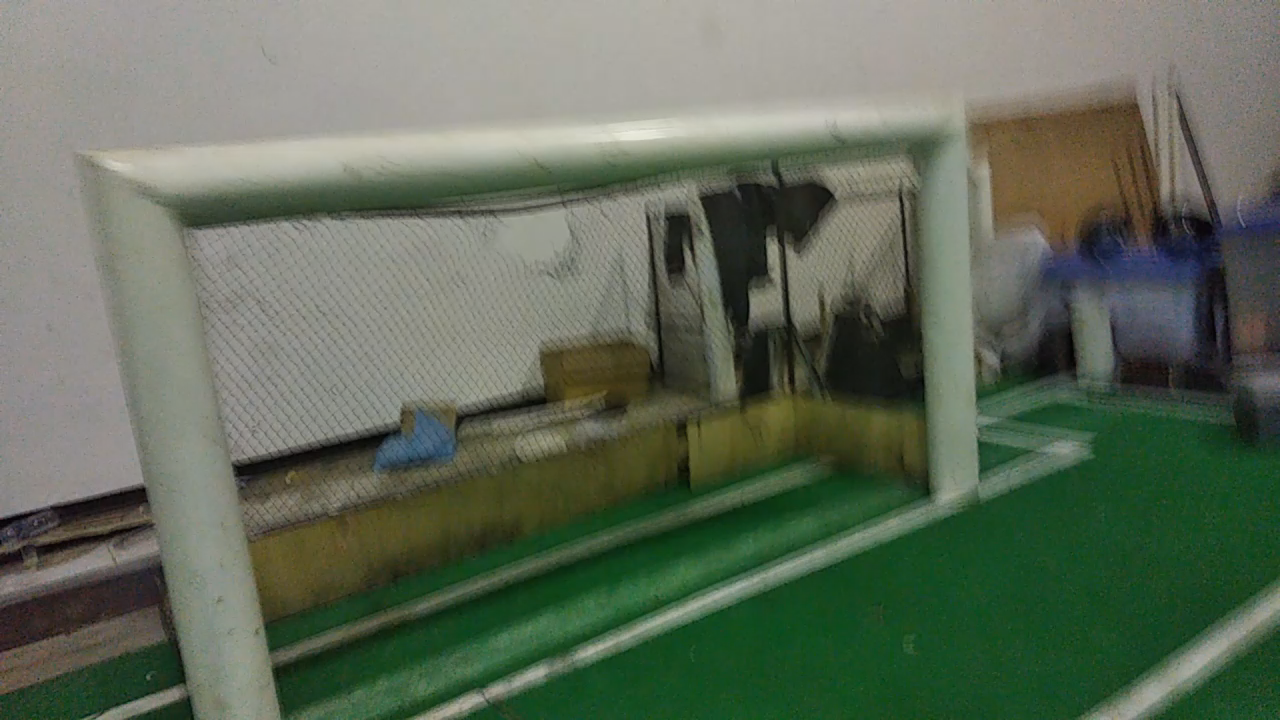gawang: (48, 96, 1004, 719)
